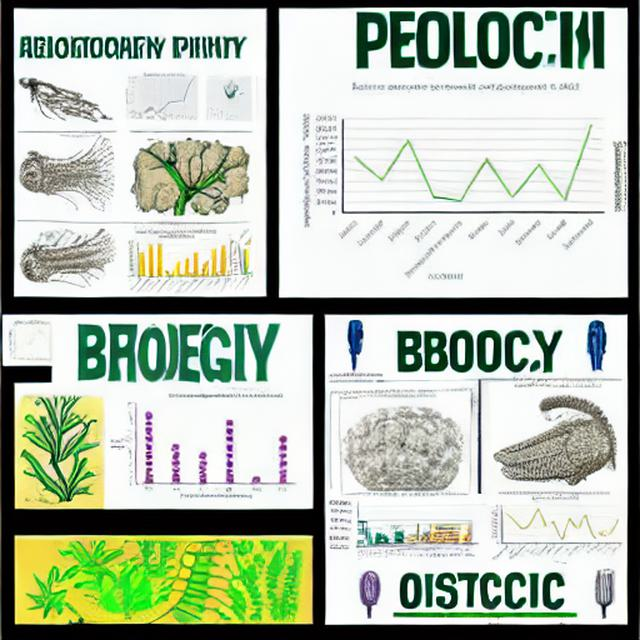Graph: (294, 74, 611, 286), (104, 389, 301, 503), (487, 489, 624, 568), (124, 229, 229, 293), (122, 65, 205, 127), (2, 319, 61, 363)
